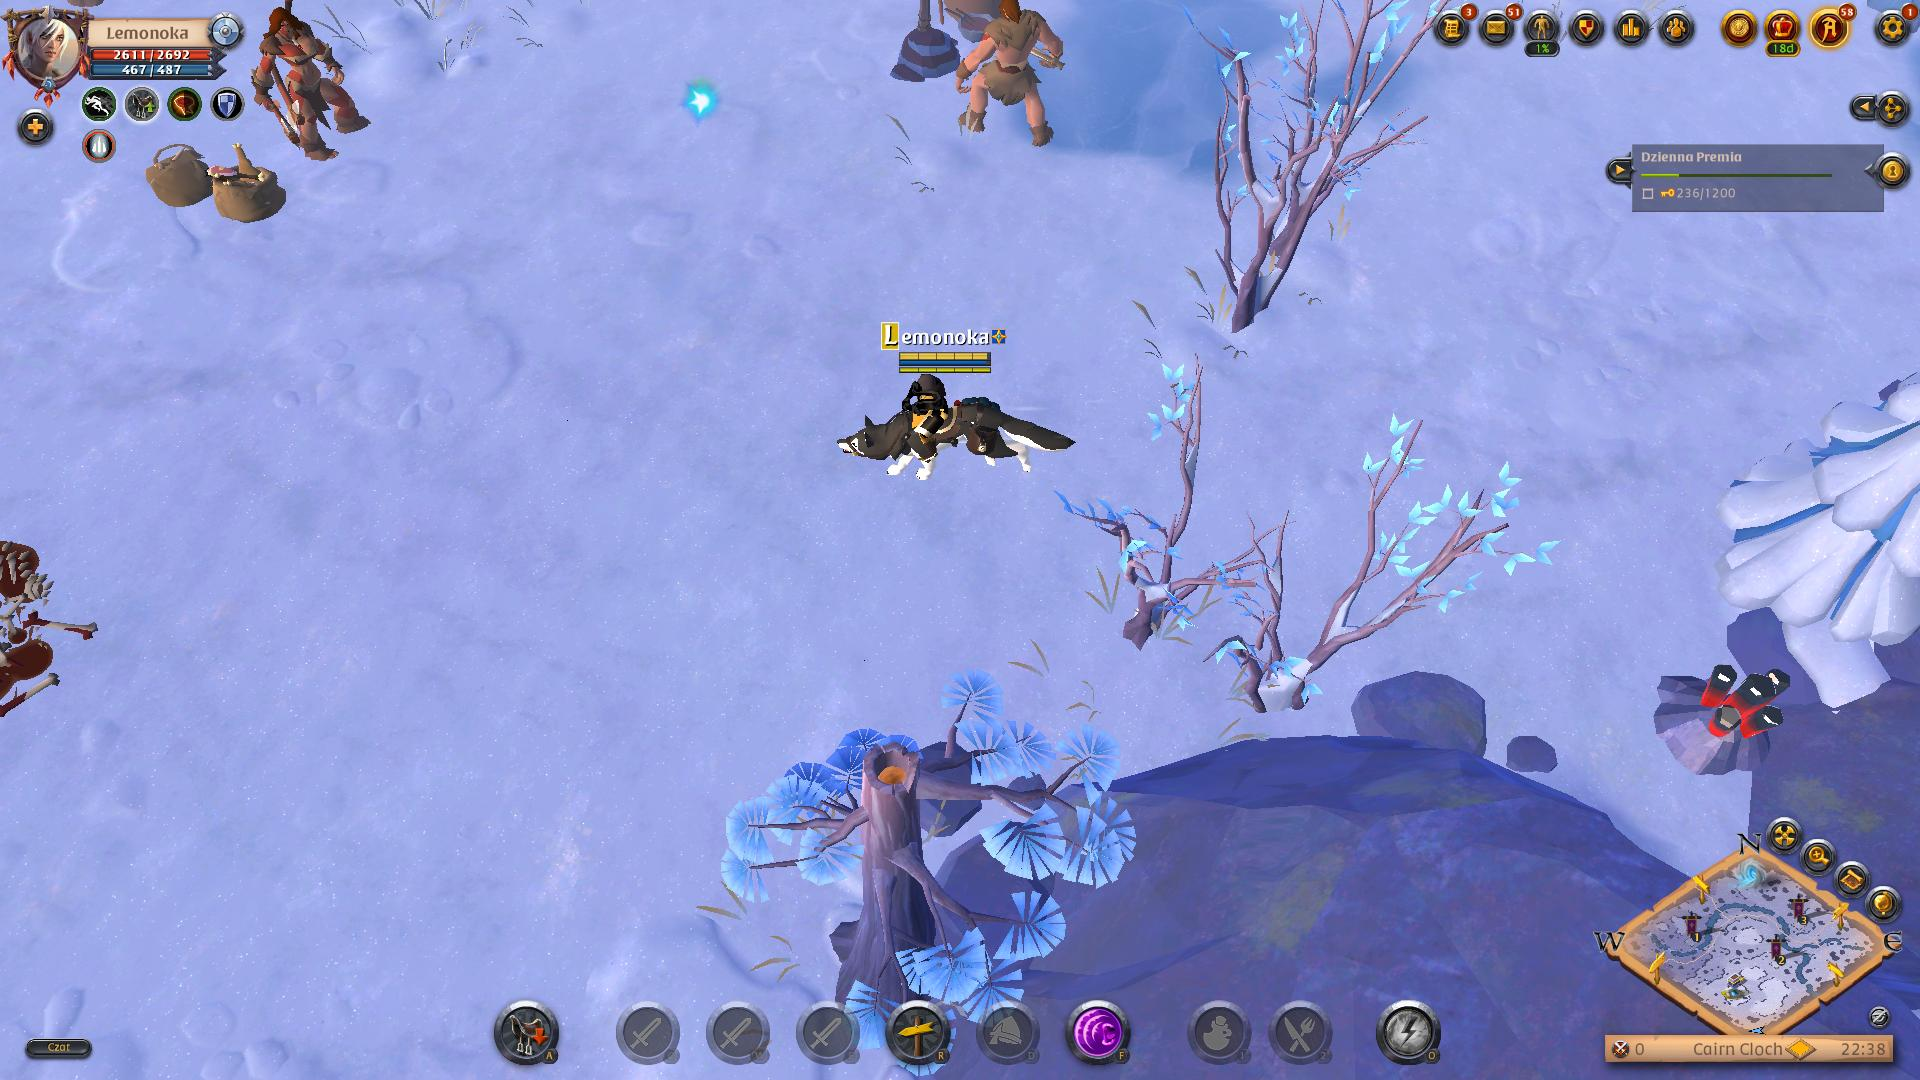ore tier 5: (1644, 662, 1787, 779)
